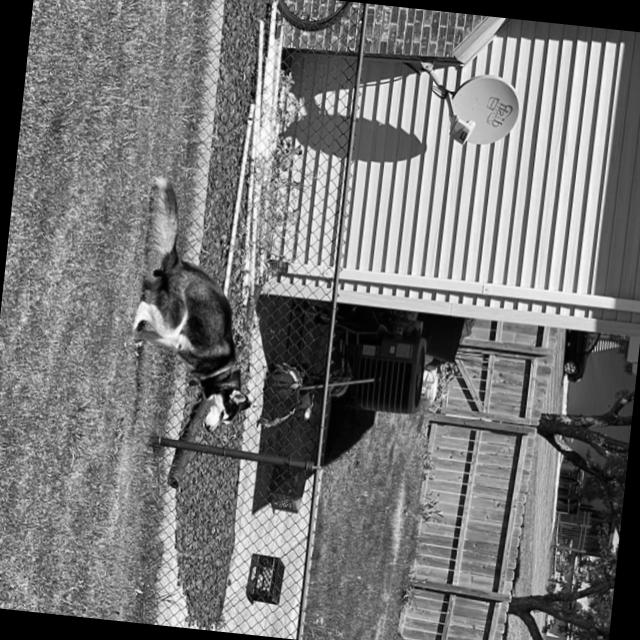squatting: (116, 168, 274, 438)
